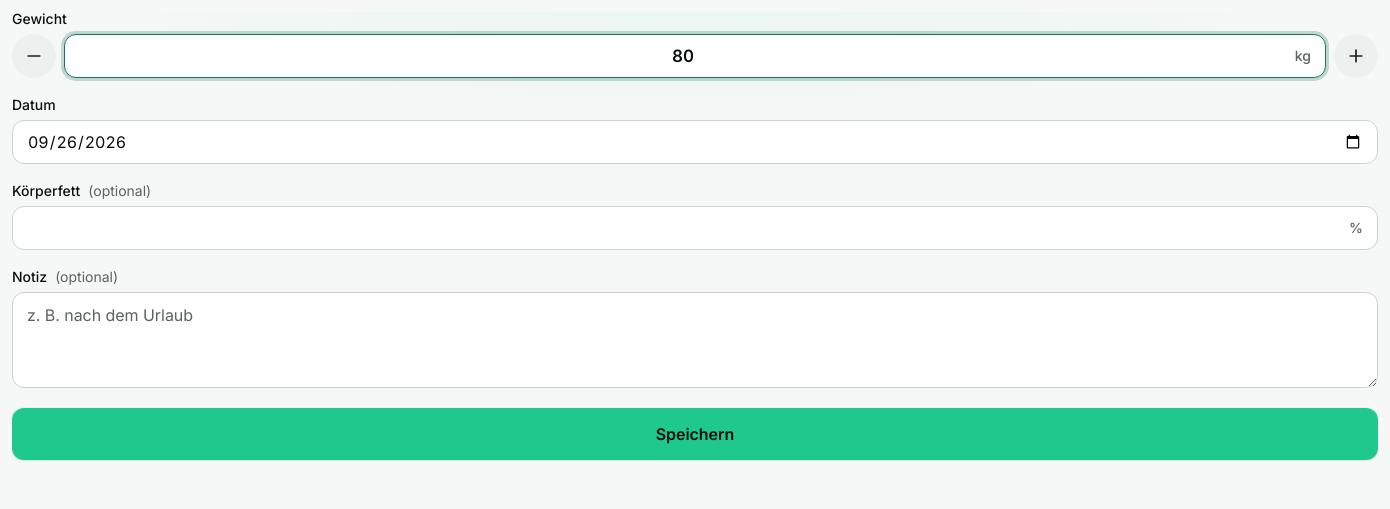
Test: LogWeightForm validation › rejects body fat outside the plausible range
Type "90" into the field labelled "Körperfett (optional)" at [684, 228], box [27, 207, 1341, 249]
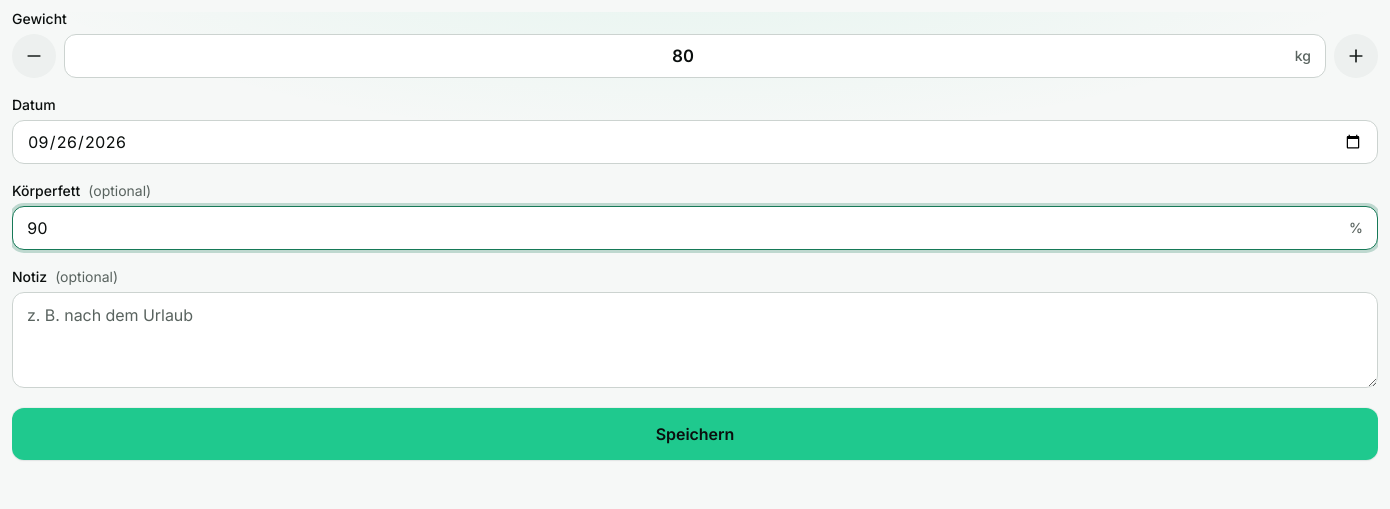
Click the button "Speichern" at [695, 434], box [12, 408, 1378, 460]
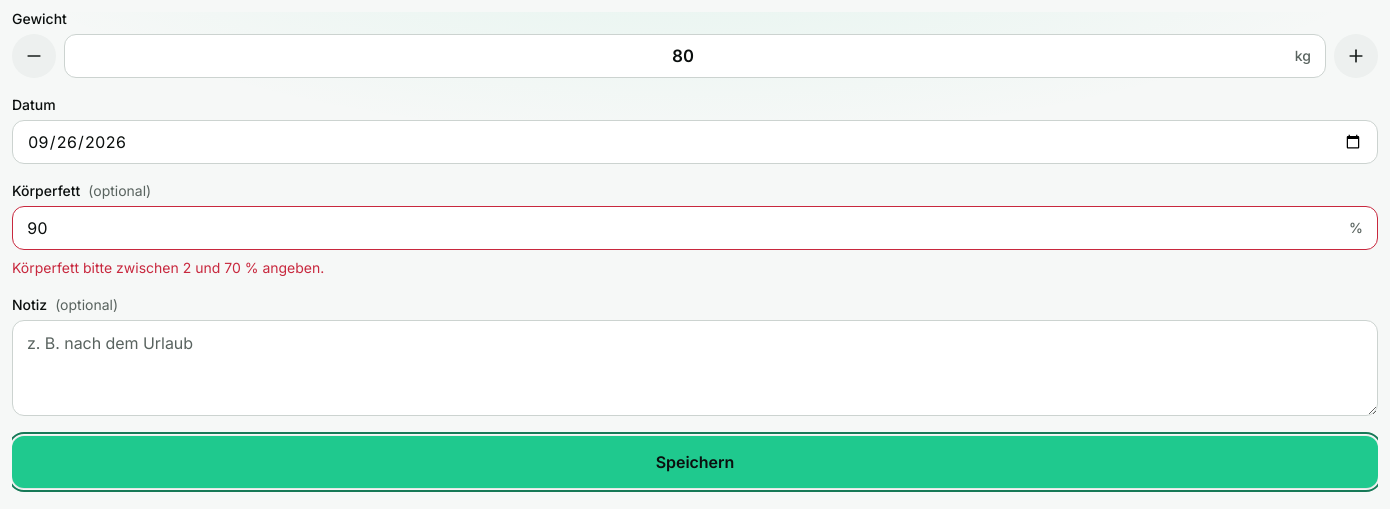
Expected: the message shows "Körperfett bitte zwischen 2 und 70 %", [12, 259, 324, 276]
